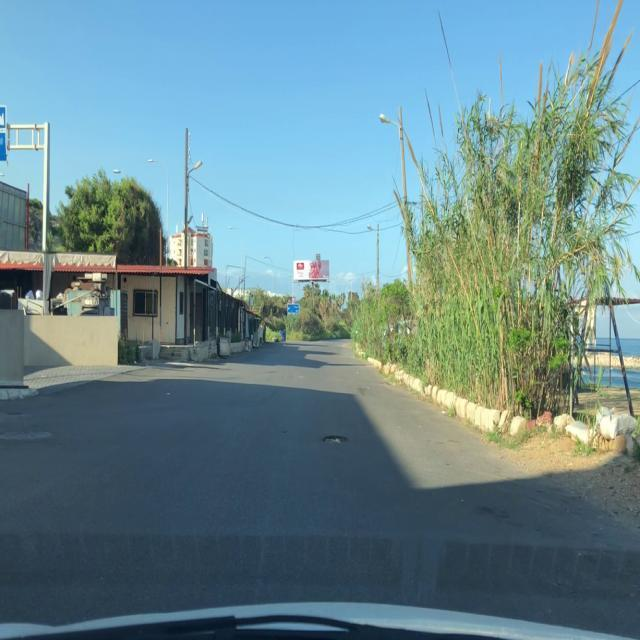Buraco: (319, 434, 350, 447)
